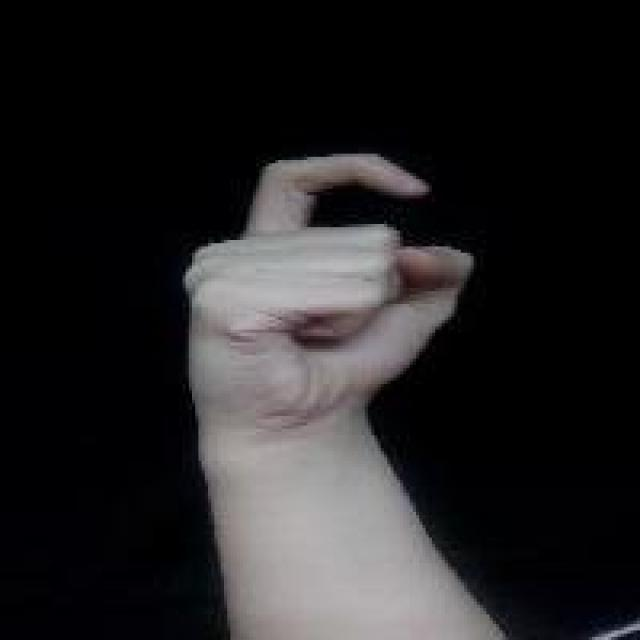X: (172, 146, 478, 427)
